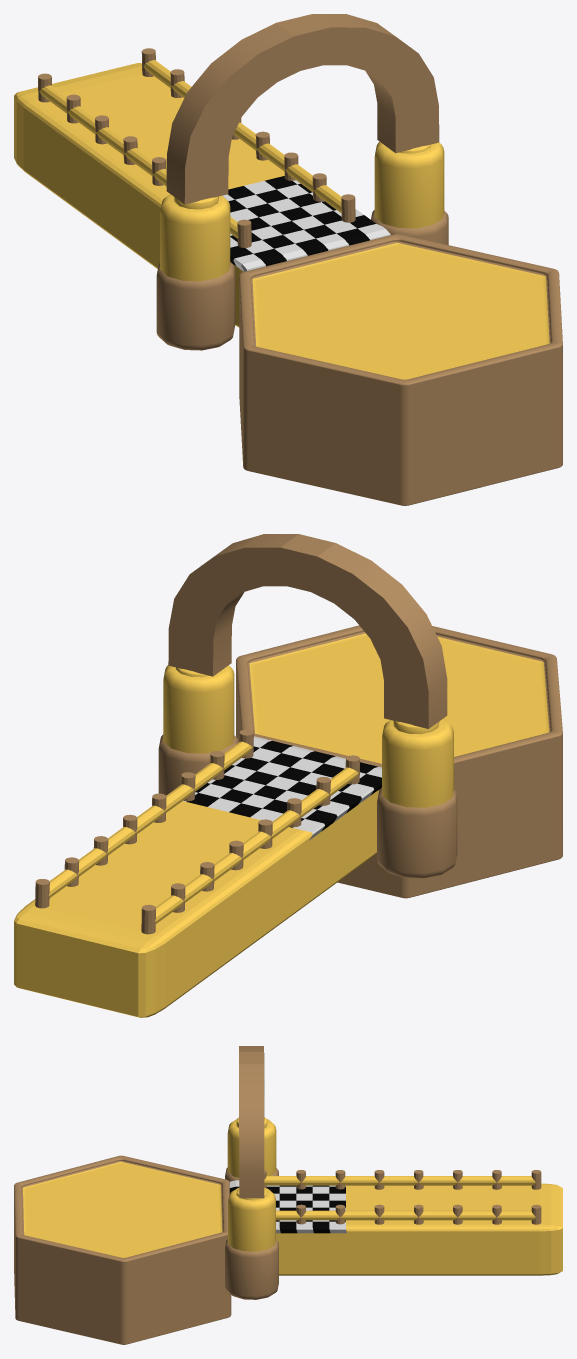
The model's file is Finish Gate.fbx.
3 views of the same model, one above another, from view 1: azimuth 30°, elevation 25°; view 2: azimuth 150°, elevation 25°; view 3: azimuth 270°, elevation 25° (orthographic). The views are drawn at different scales.
Parts seen in each view (by area): view 1: Cylinder, Cube.012, Cube.013, Plane, Cylinder.002, Cylinder.003, Cylinder.005, Cylinder.019, Cylinder.004, Cylinder.001; view 2: Cylinder, Cube.013, Cube.012, Plane, Cylinder.002, Cylinder.003, Cylinder.005, Cylinder.004, Cylinder.019, Cylinder.001; view 3: Cylinder, Cube.013, Cube.012, Cylinder.019, Cylinder.004, Plane, Cylinder.001, Cylinder.003, Cylinder.005.
Part boxes in pixels (x1,y1,x2,y2): Cylinder: [239, 234, 562, 505]; Cube.012: [166, 14, 439, 204]; Cube.013: [14, 63, 284, 327]; Plane: [222, 176, 390, 271]; Cylinder.002: [156, 262, 235, 350]; Cylinder.003: [374, 142, 444, 228]; Cylinder.005: [160, 194, 230, 281]; Cylinder.019: [141, 48, 355, 222]; Cylinder.004: [38, 73, 251, 247]; Cylinder.001: [371, 210, 448, 244]; Cylinder: [236, 625, 562, 898]; Cube.013: [14, 789, 379, 1017]; Cube.012: [168, 534, 447, 728]; Plane: [183, 736, 381, 840]; Cylinder.002: [377, 787, 457, 878]; Cylinder.003: [163, 665, 234, 753]; Cylinder.005: [382, 718, 453, 807]; Cylinder.004: [141, 755, 360, 934]; Cylinder.019: [35, 729, 253, 908]; Cylinder.001: [158, 734, 238, 795]; Cylinder: [14, 1155, 231, 1344]; Cube.013: [276, 1183, 562, 1275]; Cube.012: [239, 1046, 264, 1198]; Cylinder.019: [276, 1204, 541, 1224]; Cylinder.004: [264, 1170, 541, 1189]; Plane: [229, 1180, 346, 1233]; Cylinder.001: [225, 1239, 278, 1299]; Cylinder.003: [228, 1187, 275, 1251]; Cylinder.005: [227, 1119, 276, 1177].
Bounding box in the file's own units: 1821 × 1872 × 3989.
